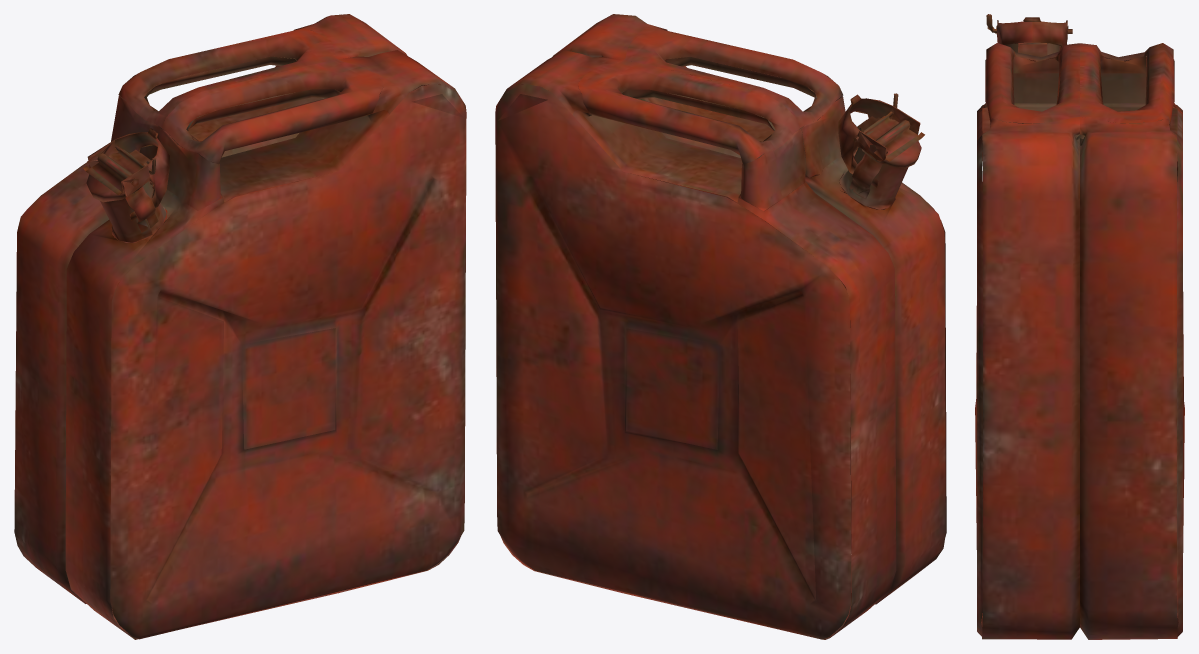
File: jerrycan.glb
3 views of the same model, side by side, from view 1: azimuth 30°, elevation 25°; view 2: azimuth 150°, elevation 25°; view 3: azimuth 270°, elevation 25° (orthographic). The views are drawn at different scales.
Visible parts, largest first — view 1: metal_jerrycan; view 2: metal_jerrycan; view 3: metal_jerrycan.
Part boxes in pixels (x1,y1,x2,y2): metal_jerrycan: (14, 14, 466, 639); metal_jerrycan: (495, 14, 946, 639); metal_jerrycan: (975, 14, 1184, 639).
Bounding box in the file's own units: 0.3494 × 0.4545 × 0.1723.
1 material, 1 textured.
